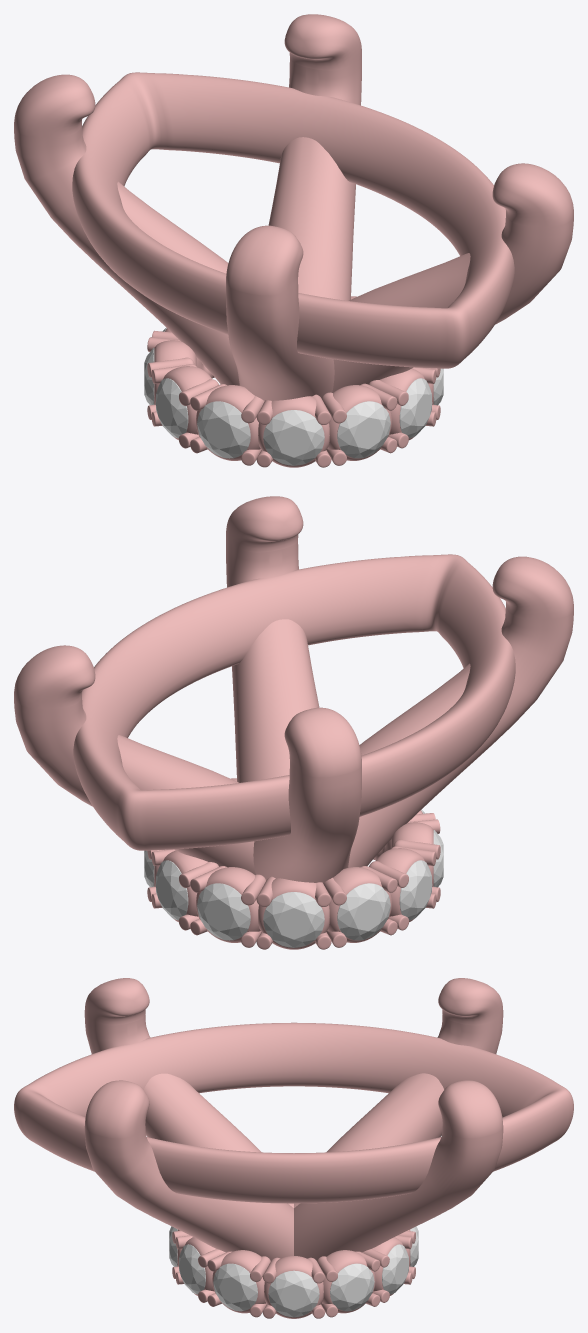
File: MARQUISE.glb
3 views of the same model, one above another, from view 1: azimuth 30°, elevation 25°; view 2: azimuth 150°, elevation 25°; view 3: azimuth 270°, elevation 25° (orthographic). The views are drawn at different scales.
Parts seen in each view (by area): view 1: marquise.002, hidden halo.005, hidden halo - diamonds.005; view 2: marquise.002, hidden halo.005, hidden halo - diamonds.005; view 3: marquise.002, hidden halo - diamonds.005, hidden halo.005.
Boxes of the visible parts, x1,y1,x2,y2 form: marquise.002: (14,14,573,400); hidden halo.005: (147,296,440,467); hidden halo - diamonds.005: (144,327,443,465); marquise.002: (14,496,573,882); hidden halo.005: (147,778,440,949); hidden halo - diamonds.005: (144,809,443,947); marquise.002: (14,978,573,1260); hidden halo - diamonds.005: (169,1226,418,1317); hidden halo.005: (172,1229,415,1318).
Bounding box in the file's own units: 4.98 × 4.46 × 8.44.
